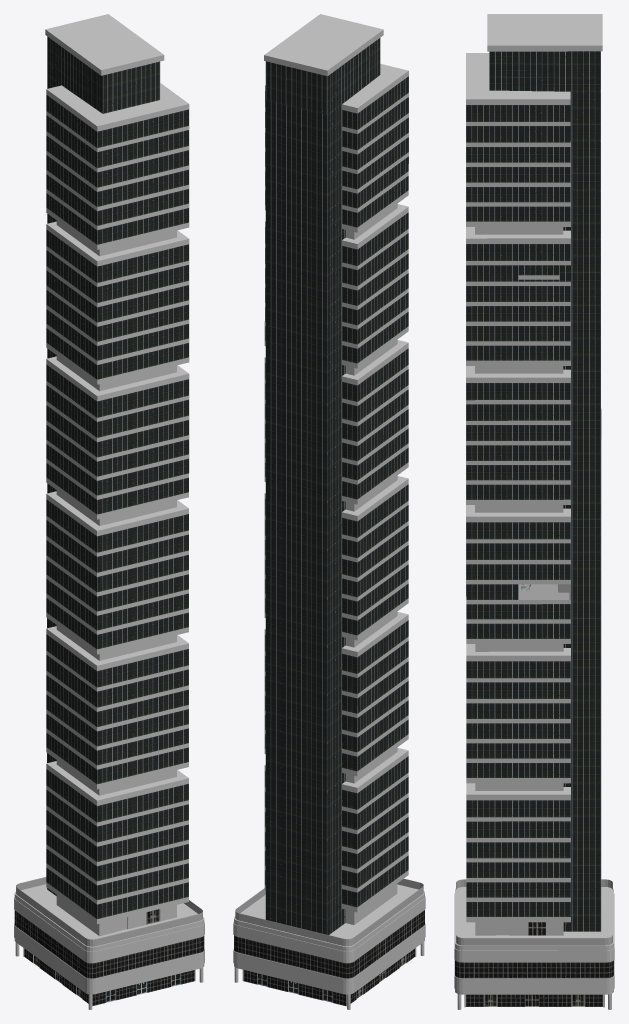
File: Building & room.fbx
3 views of the same model, side by side, from view 1: azimuth 30°, elevation 25°; view 2: azimuth 150°, elevation 25°; view 3: azimuth 270°, elevation 25° (orthographic). The views are drawn at different scales.
Parts seen in each view (by area): view 1: Building_main; view 2: Building_main; view 3: Building_main, Room.
Part boxes in pixels (left/top/right/bottom): Building_main: left=14, top=14, right=204, bottom=1009; Building_main: left=233, top=14, right=425, bottom=1009; Building_main: left=454, top=14, right=614, bottom=1009; Room: left=518, top=584, right=570, bottom=599.
Bounding box in the file's own units: 1772 × 13128 × 2005.
